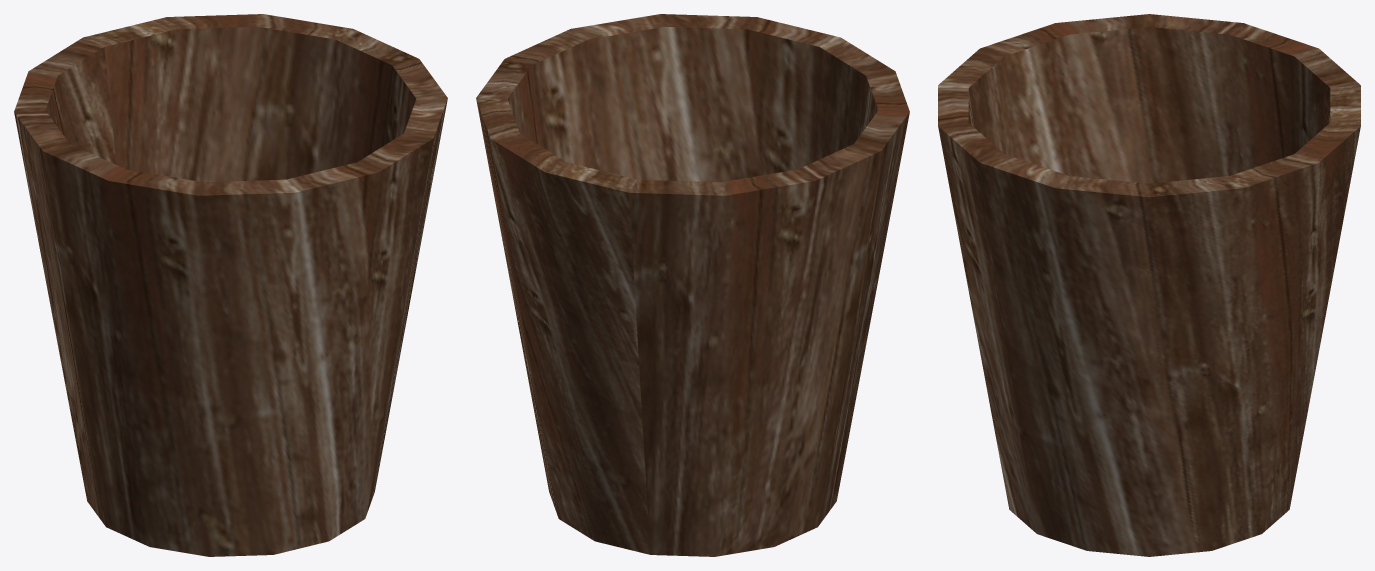
File: garbage.fbx
The picture shows the model from 3 angles, left to right: view 1: azimuth 30°, elevation 25°; view 2: azimuth 150°, elevation 25°; view 3: azimuth 270°, elevation 25°; orthographic projection.
Visible parts, largest first — view 1: accs.003; view 2: accs.003; view 3: accs.003.
Part boxes in pixels (x1,y1,x2,y2): accs.003: [14, 14, 447, 556]; accs.003: [476, 14, 909, 556]; accs.003: [938, 14, 1360, 556].
Bounding box in the file's own units: 26.14 × 26 × 25.49.
1 material, 1 textured.
